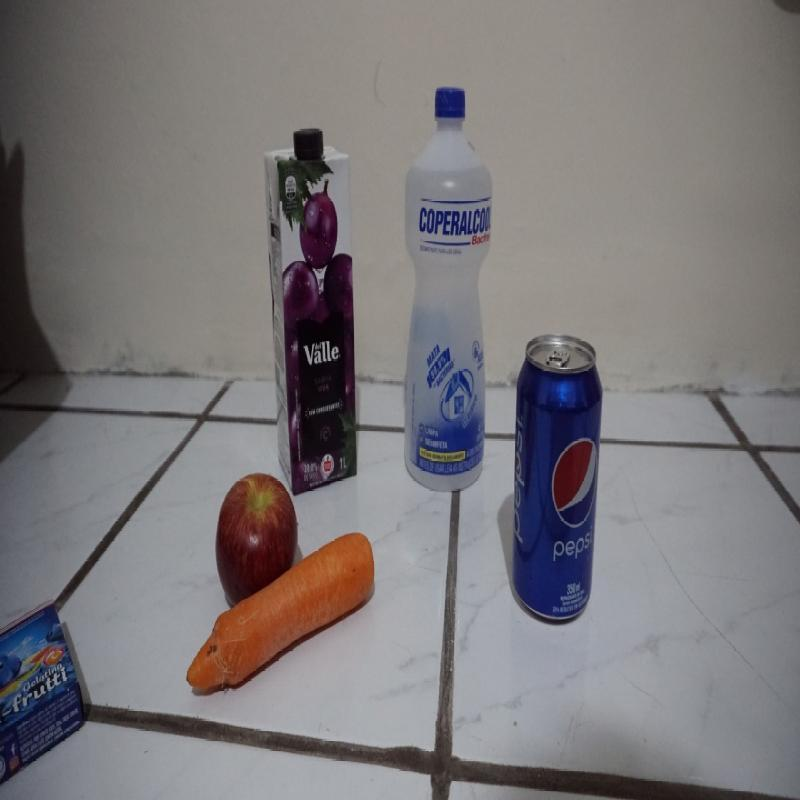Alcohol Bottle: (402, 85, 496, 493)
Apple: (214, 473, 299, 602)
Carrot: (186, 532, 376, 692)
Gelatine: (0, 593, 88, 785)
Soda can: (510, 331, 604, 626)
